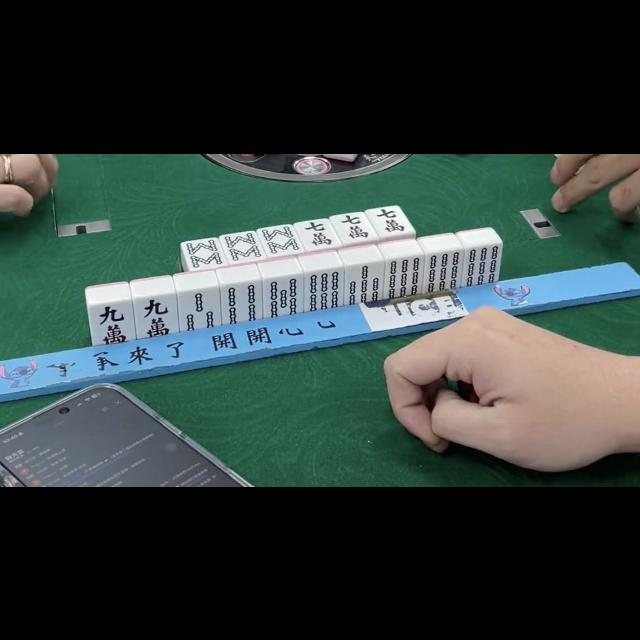b3: (180, 290, 220, 328)
b4: (223, 284, 261, 320)
b5: (264, 277, 302, 315)
b6: (306, 270, 342, 310)
b7: (346, 263, 382, 303)
b8: (224, 232, 262, 262), (184, 239, 222, 269), (262, 226, 300, 254)
b9: (424, 252, 462, 292), (464, 245, 501, 285), (386, 257, 422, 297)
c7: (336, 213, 372, 241), (302, 220, 336, 248), (374, 206, 408, 234)
c9: (91, 302, 132, 343), (136, 296, 176, 338)
